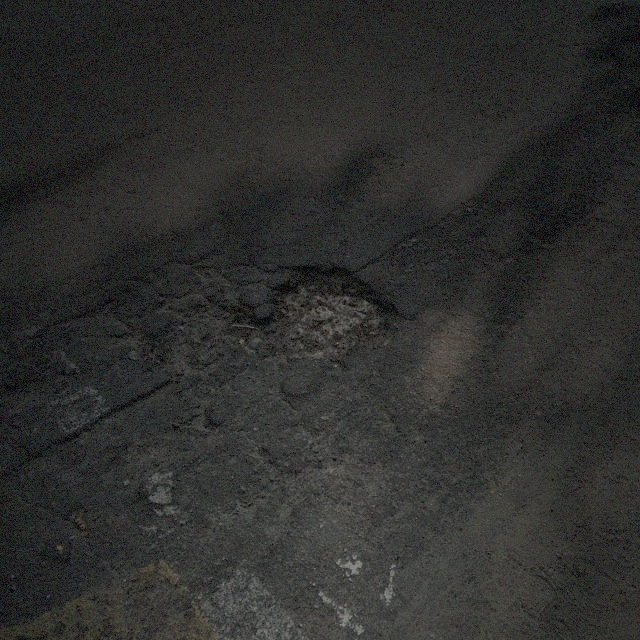pothole: (263, 258, 410, 362), (140, 299, 260, 374)
